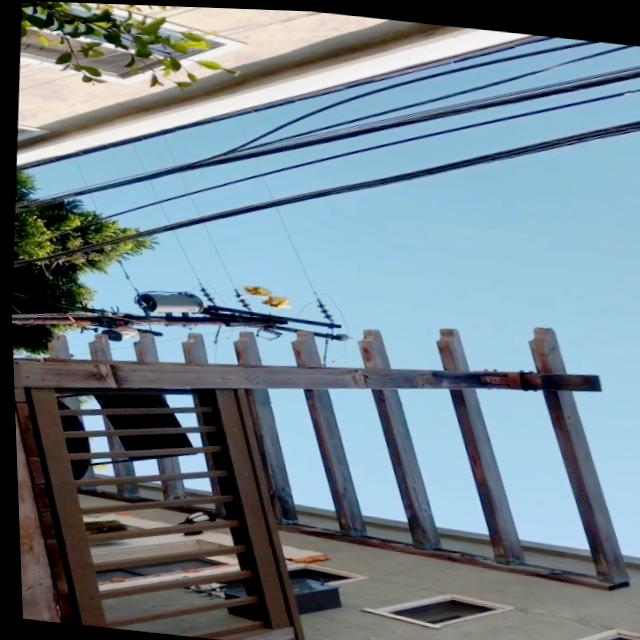obstruction: (242, 284, 288, 305)
poles: (9, 289, 339, 342), (309, 329, 347, 338)
wires: (276, 205, 346, 329), (202, 221, 269, 308), (173, 229, 226, 303), (114, 258, 137, 289), (127, 142, 145, 170), (159, 134, 175, 161), (319, 336, 329, 362), (75, 159, 85, 185), (329, 342, 342, 359), (261, 173, 272, 193), (210, 324, 218, 351), (248, 156, 261, 169), (189, 196, 199, 211), (236, 117, 245, 132), (177, 172, 186, 187), (157, 203, 166, 217), (149, 182, 157, 197), (90, 196, 96, 206)
